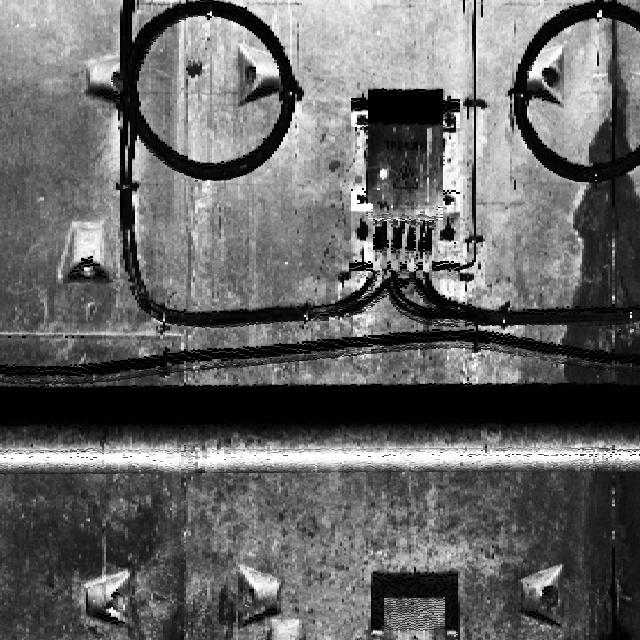leakage: (553, 10, 639, 637)
